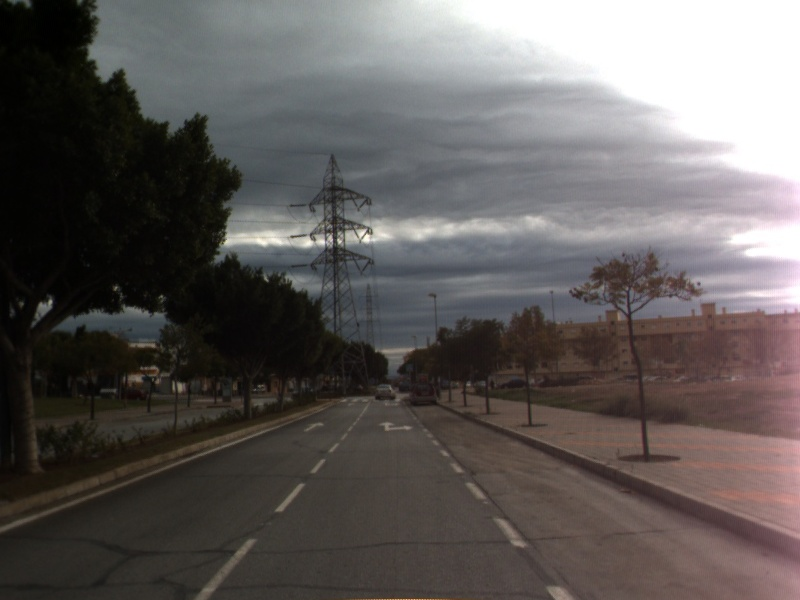STRAIGHT: (301, 419, 327, 434)
STRAIGHT_RIGHT: (377, 419, 416, 433)
